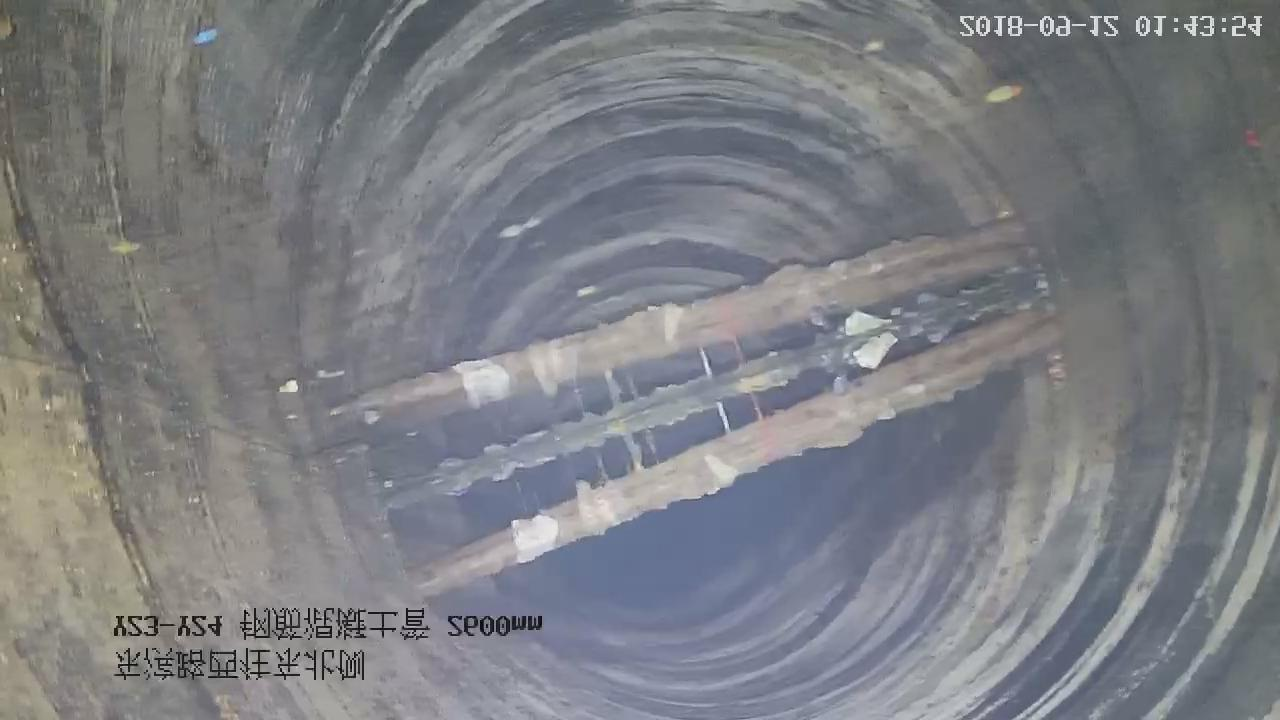YWCR: (332, 221, 1060, 595)
